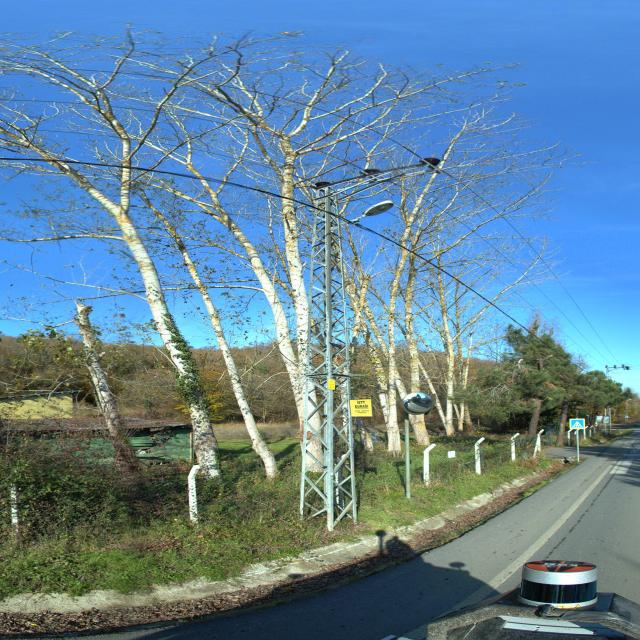Utility Pole Information Plate: (328, 378, 336, 391)
